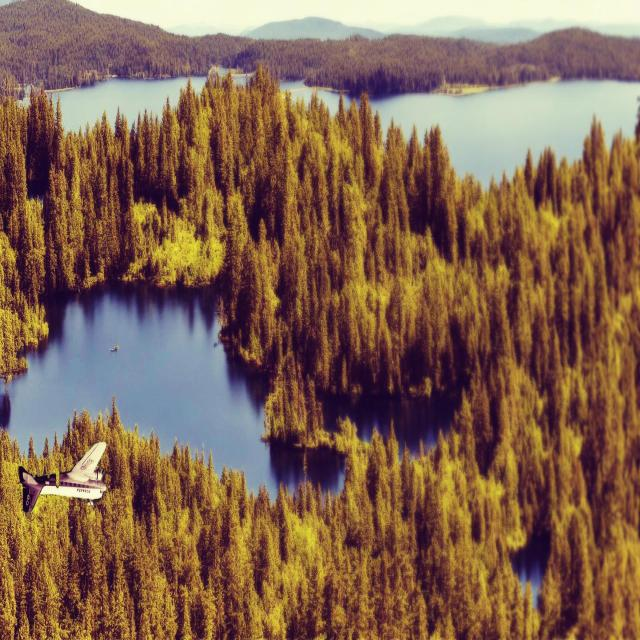airplane: (18, 440, 107, 514)
